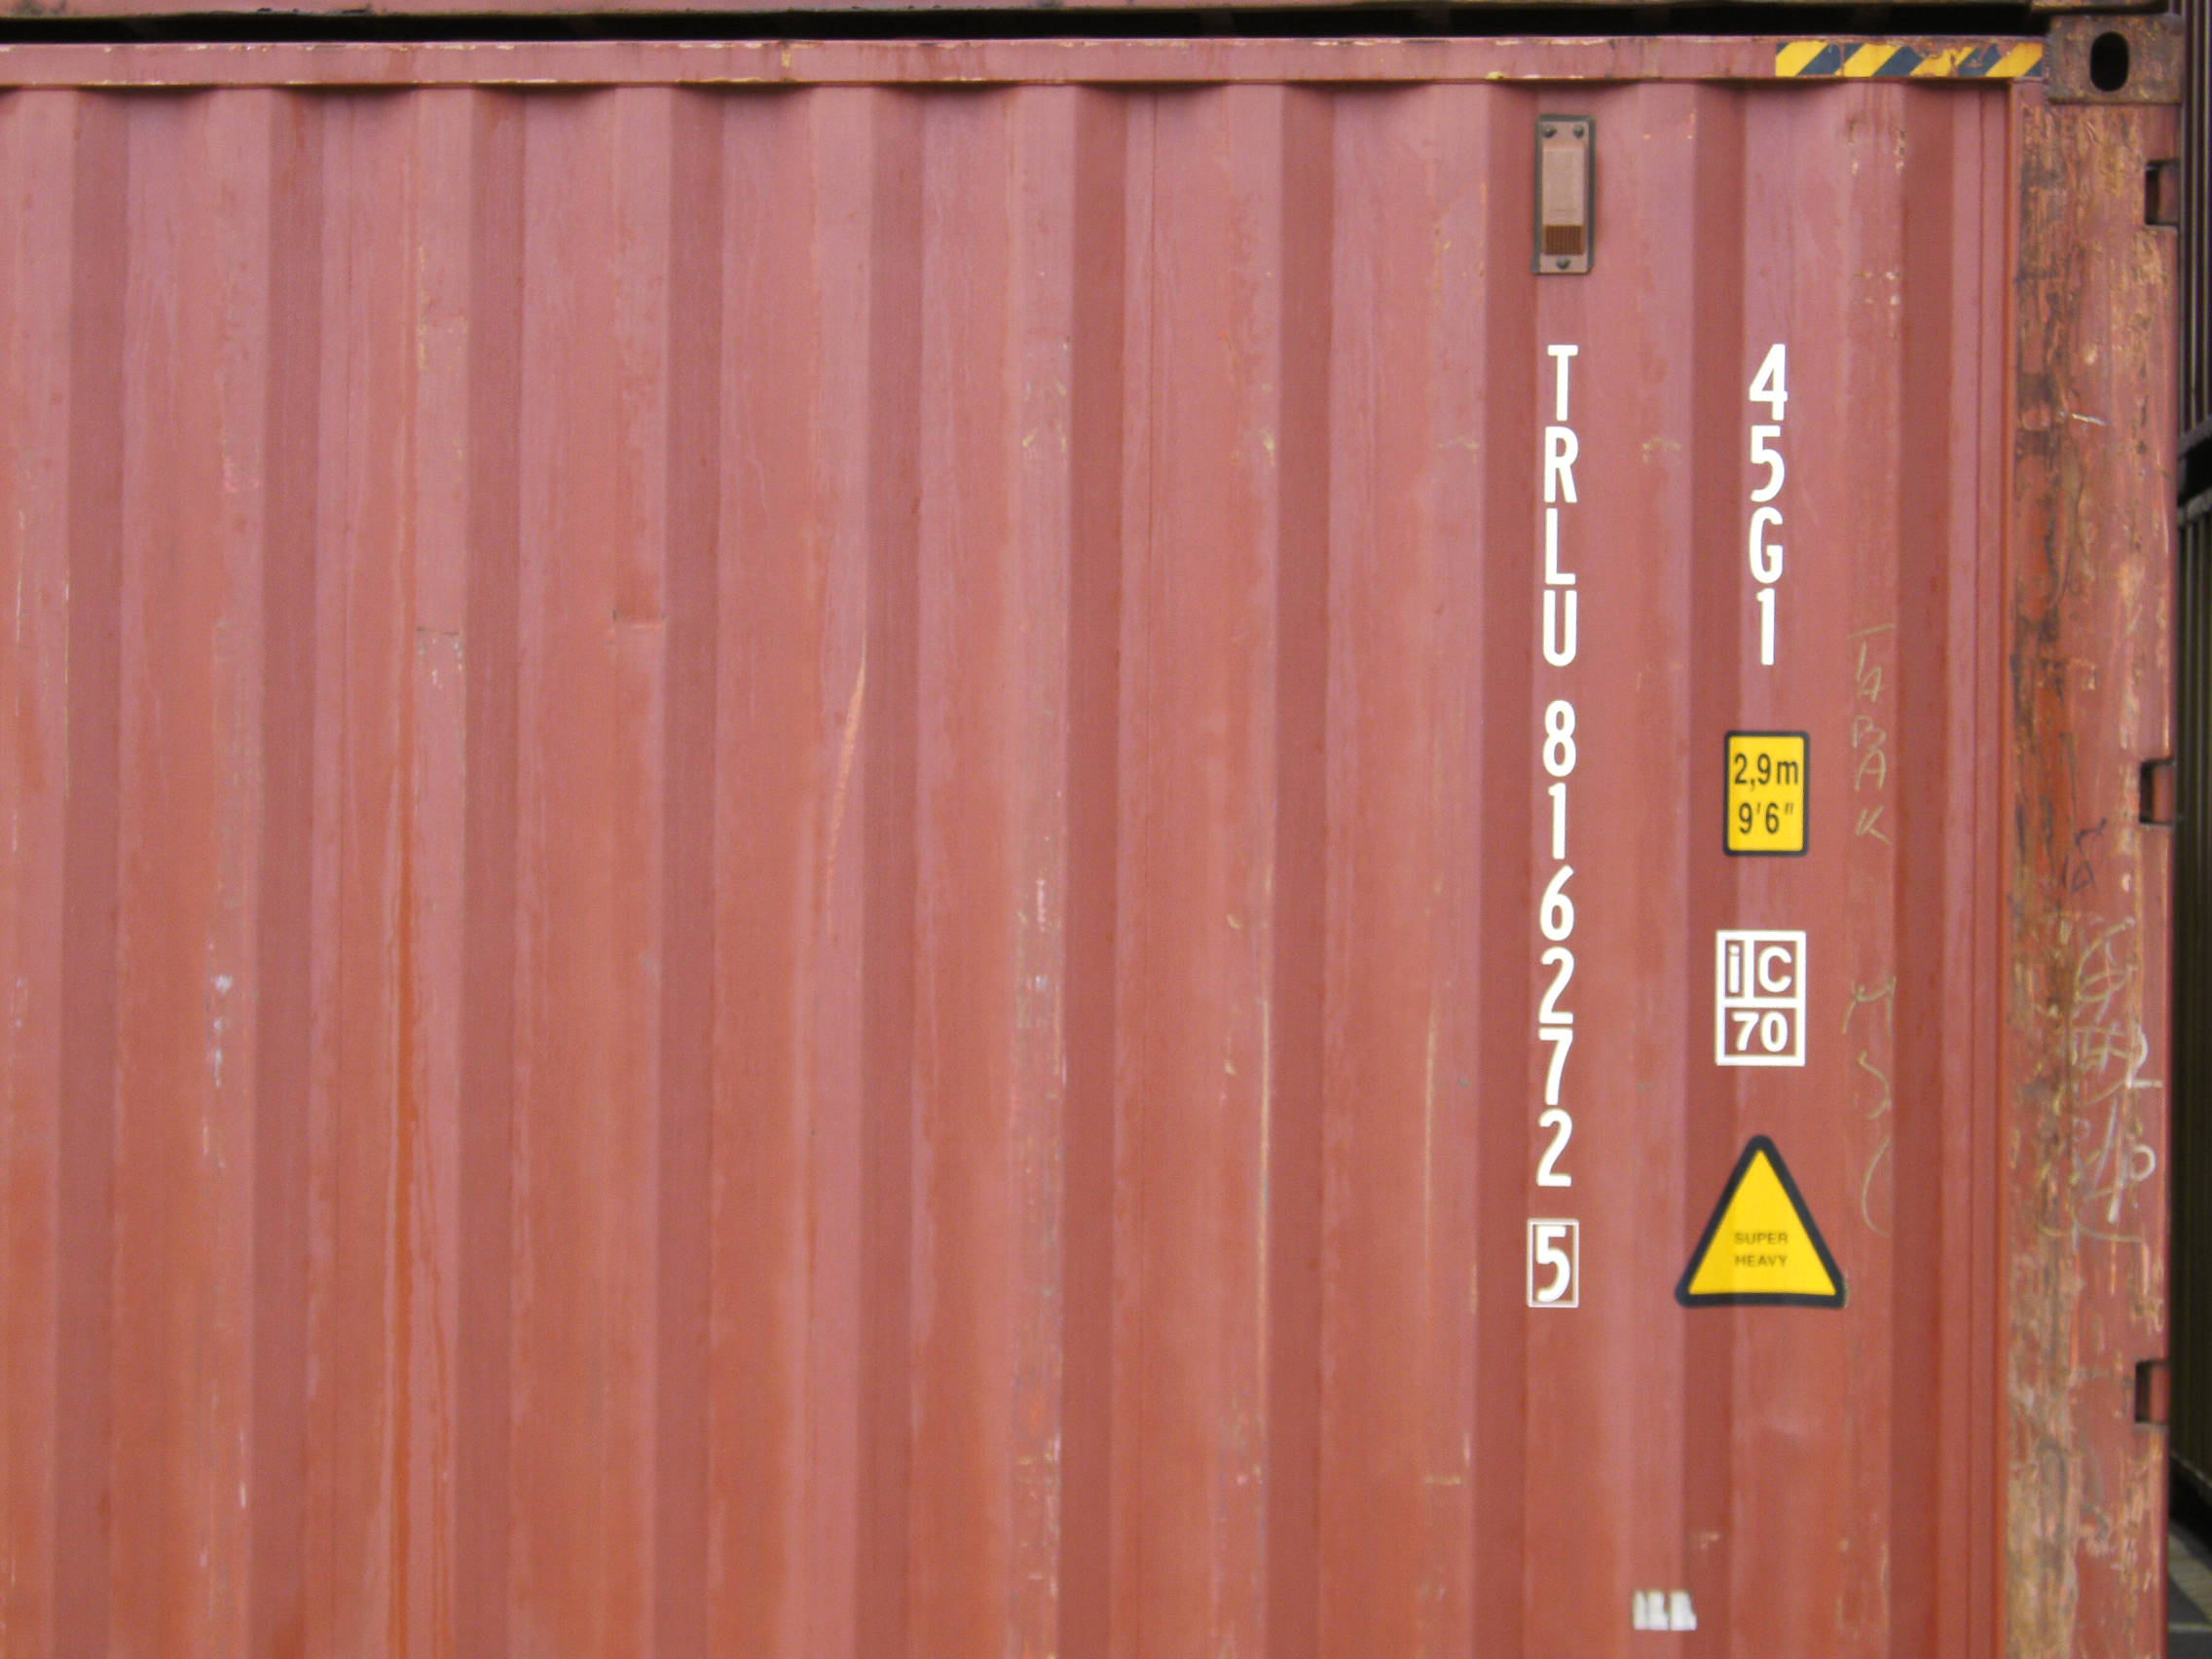container_no_door: (78, 96, 1932, 1607)
